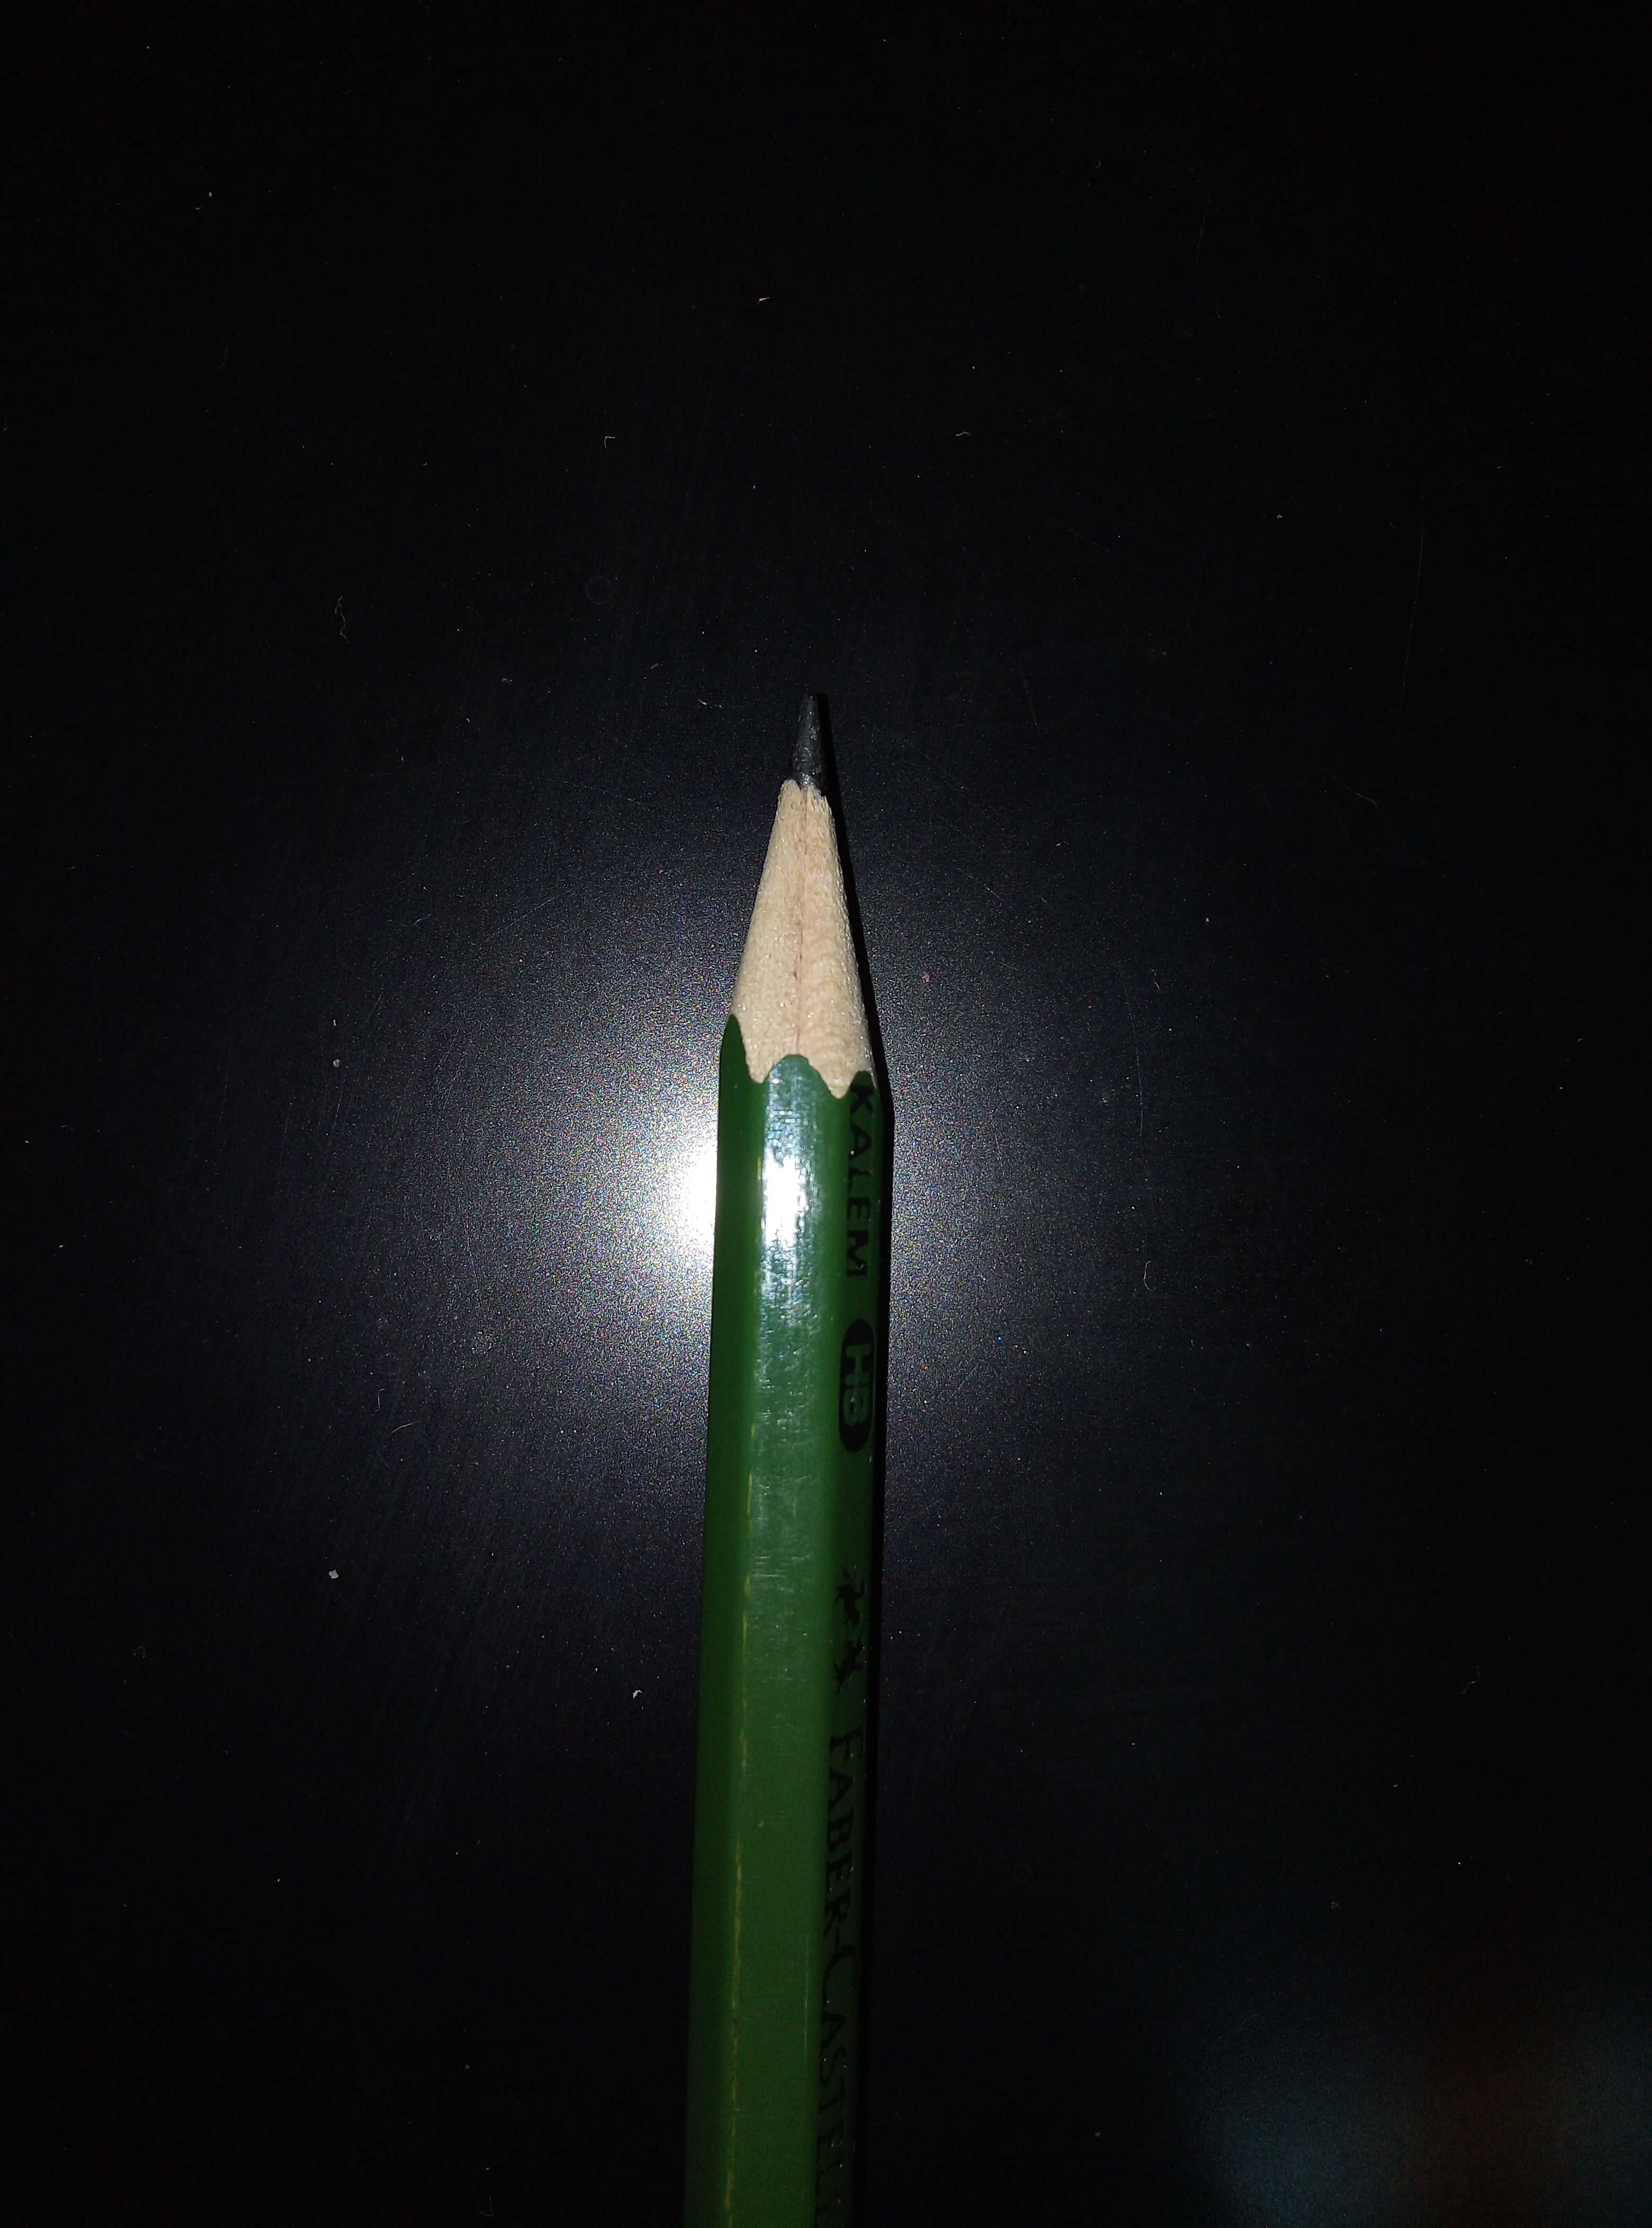pen_tip: (618, 559, 993, 1261)
